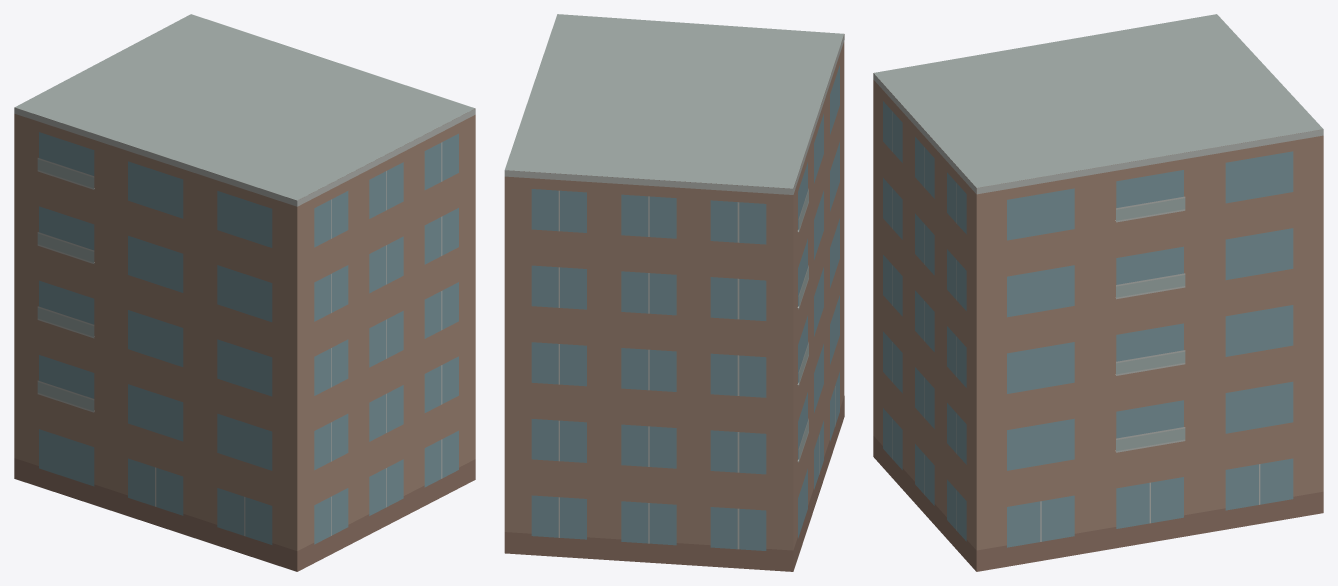
File: survey-upis-32842243.glb
3 views of the same model, side by side, from view 1: azimuth 30°, elevation 25°; view 2: azimuth 150°, elevation 25°; view 3: azimuth 270°, elevation 25° (orthographic). The views are drawn at different scales.
Visible parts, largest first — view 1: survey-upis-32842243.tmp; view 2: survey-upis-32842243.tmp; view 3: survey-upis-32842243.tmp.
Boxes of the visible parts, left/top/right/bottom form: survey-upis-32842243.tmp: left=14, top=14, right=475, bottom=571; survey-upis-32842243.tmp: left=504, top=14, right=844, bottom=571; survey-upis-32842243.tmp: left=873, top=14, right=1323, bottom=571.
Bounding box in the file's own units: 14.2 × 14.6 × 15.53.
